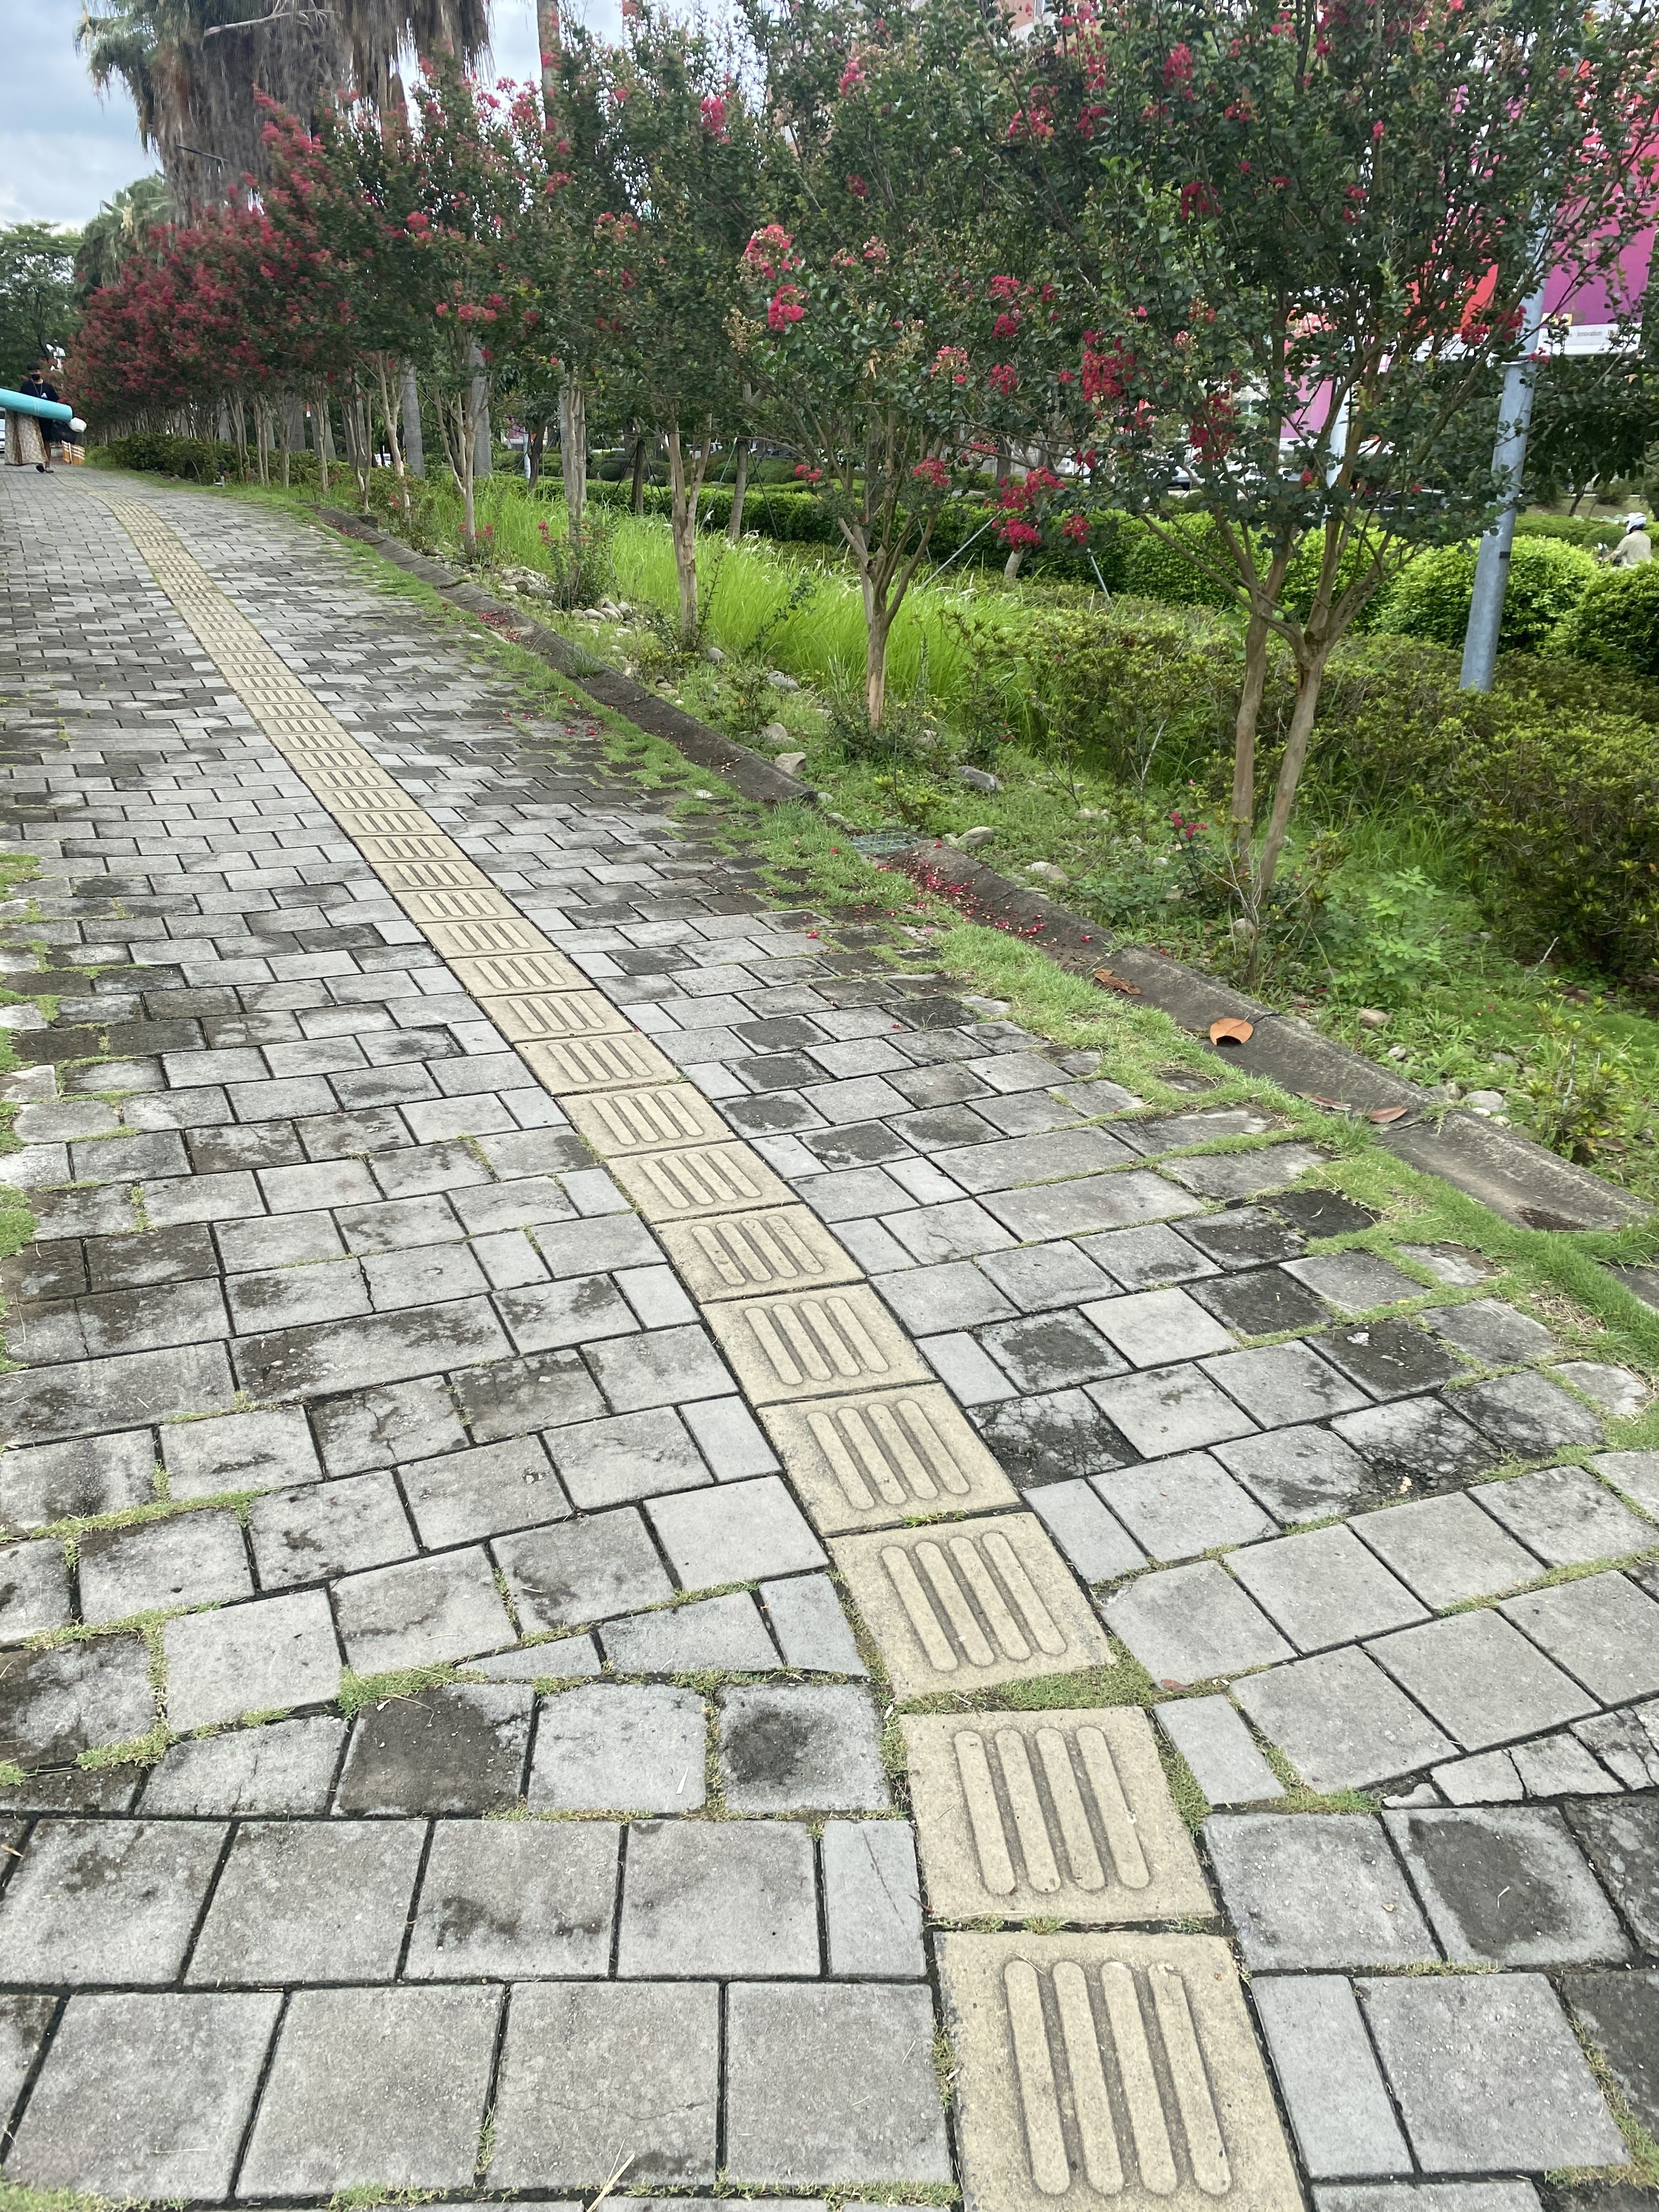sidewalk: (10, 442, 1659, 2212)
